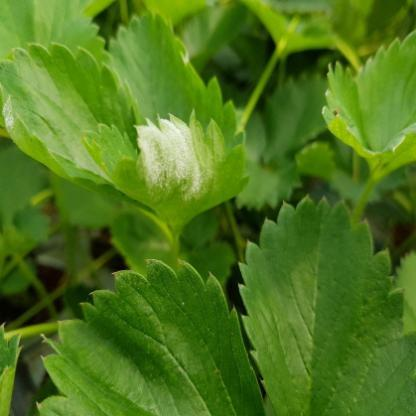Strawberry_Powdery_Mildew_Leaf: (81, 107, 252, 239)
